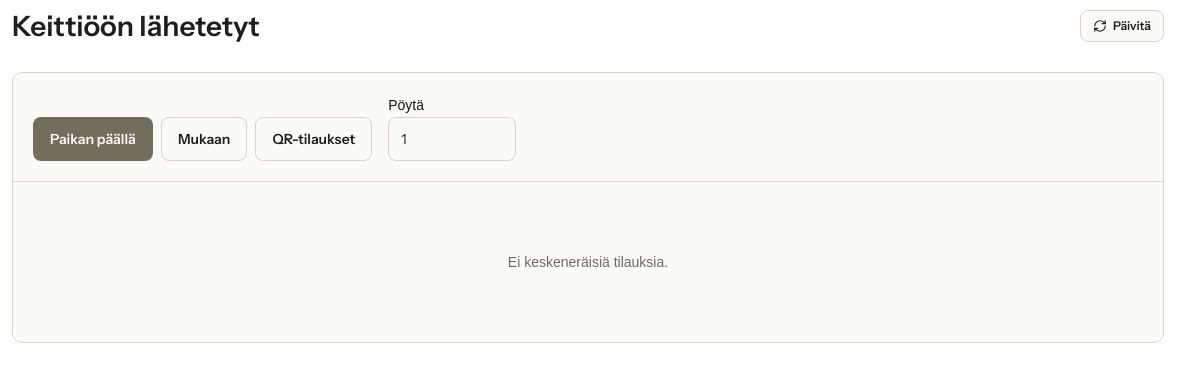
Scenario: does not restore an already served order from an older READY snapshot
Click the button "QR-tilaukset".
click(314, 139)  # box [255,117,372,161]
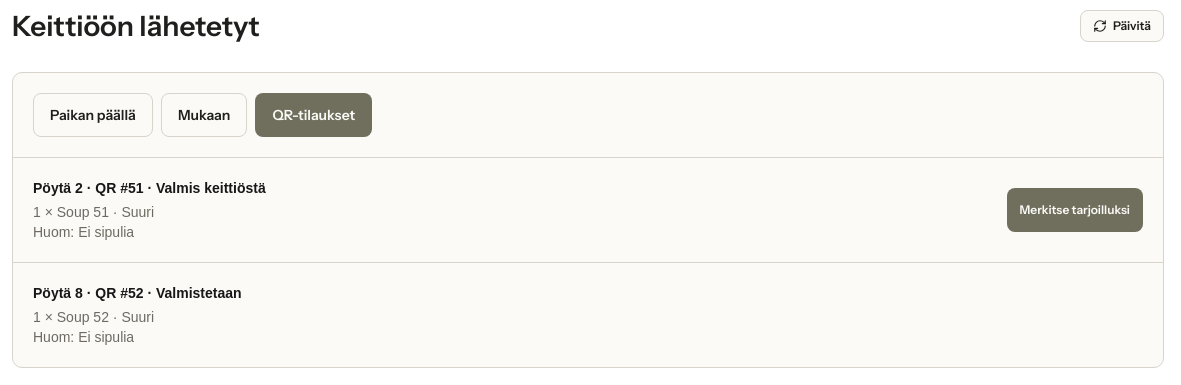
Click the button with aria-label "Merkitse tarjoilluksi: tilaus #51".
click(1075, 210)  # box [1006,188,1143,232]
Wait 5000 ms
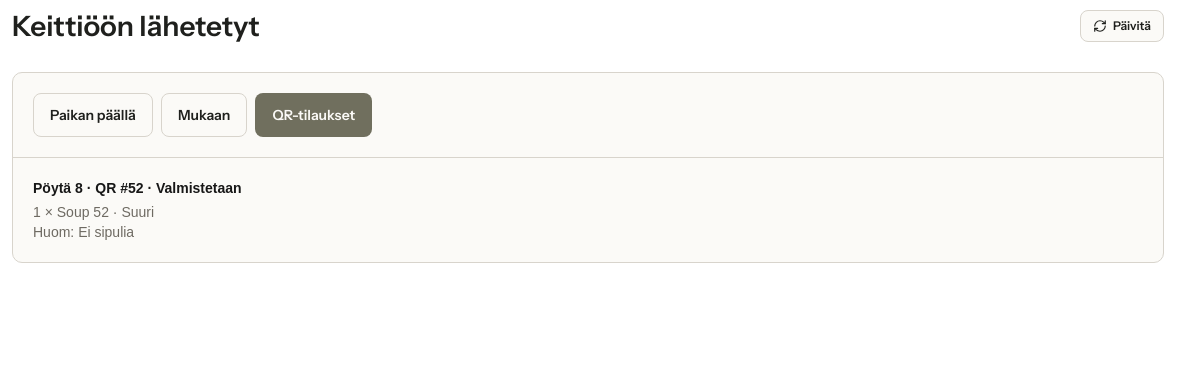
Check: the heading "QR #51" is gone
